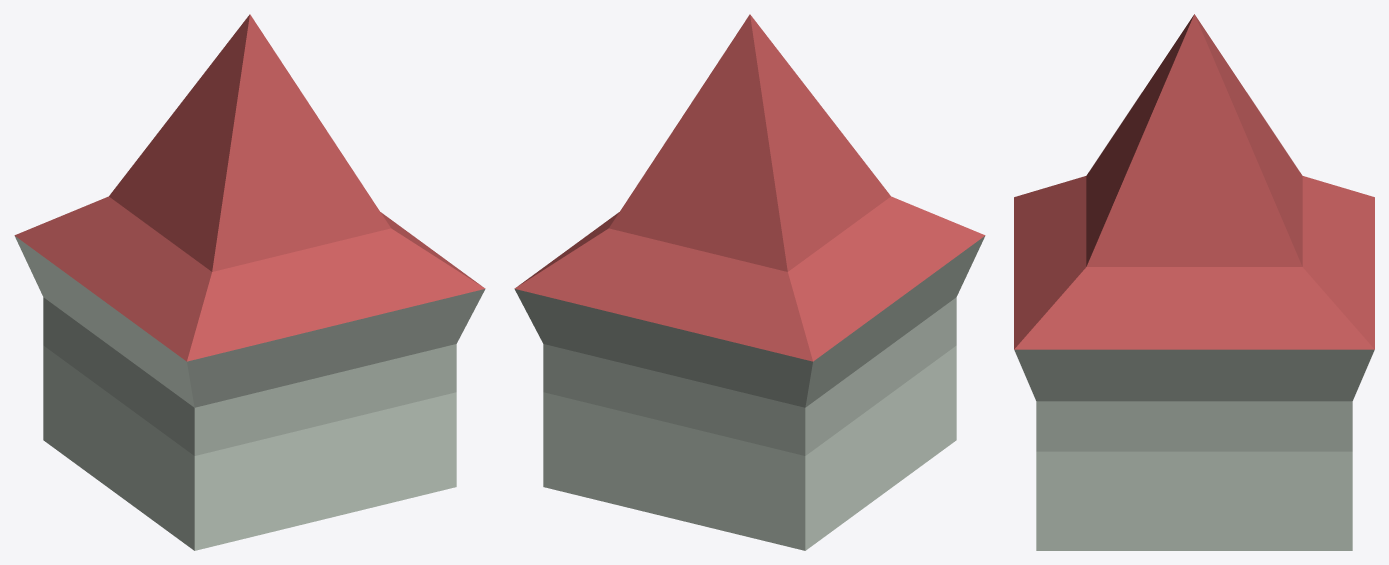
File: towerDefense_027.obj
3 renders of one model, left to right at view 1: azimuth 30°, elevation 25°; view 2: azimuth 150°, elevation 25°; view 3: azimuth 270°, elevation 25°, orthographic. The views are drawn at different scales.
Visible parts, largest first — view 1: Mesh1 Group1 Model; view 2: Mesh1 Group1 Model; view 3: Mesh1 Group1 Model.
Part boxes in pixels (x1,y1,x2,y2): Mesh1 Group1 Model: [14, 14, 485, 550]; Mesh1 Group1 Model: [514, 14, 985, 550]; Mesh1 Group1 Model: [1014, 14, 1374, 550].
Size of the model in its own units: 0.6727 by 0.9674 by 0.6727.
